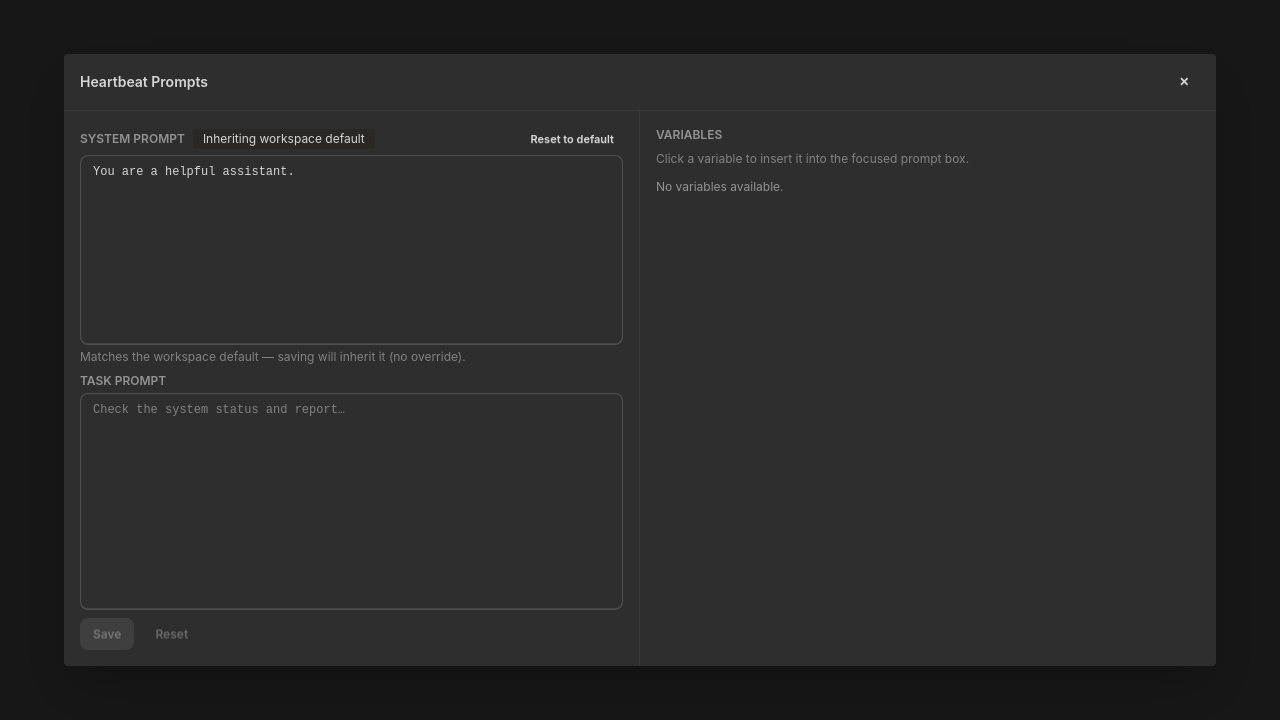
PromptEditor save flow › a failed save surfaces the error and keeps the edit unsaved
The width and height of the screenshot is (1280, 720).
Type "custom" into the text box named "Heartbeat system prompt" at (352, 250), box [80,155,623,344]
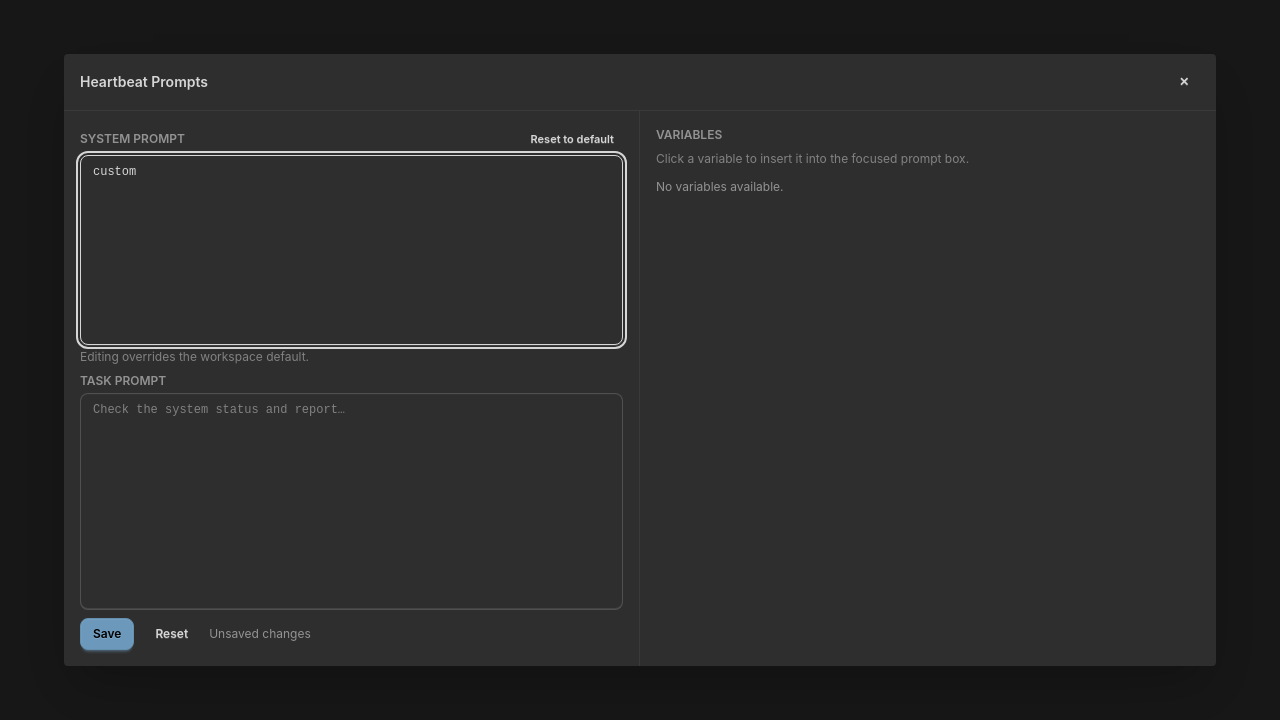
Click the button "Save" at (107, 634), box [80,618,134,650]
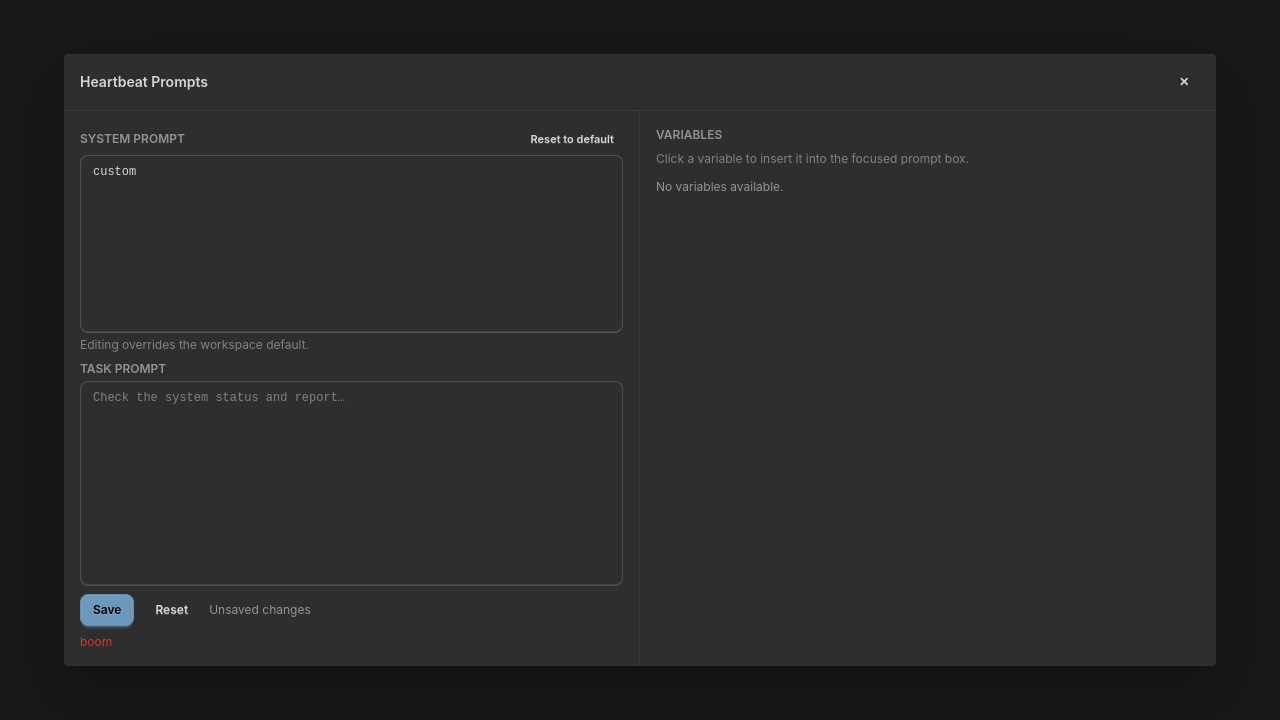
Now the button "Save" is enabled, box [80,594,134,626]
Now the text "boom" is shown, box [80,634,112,649]
